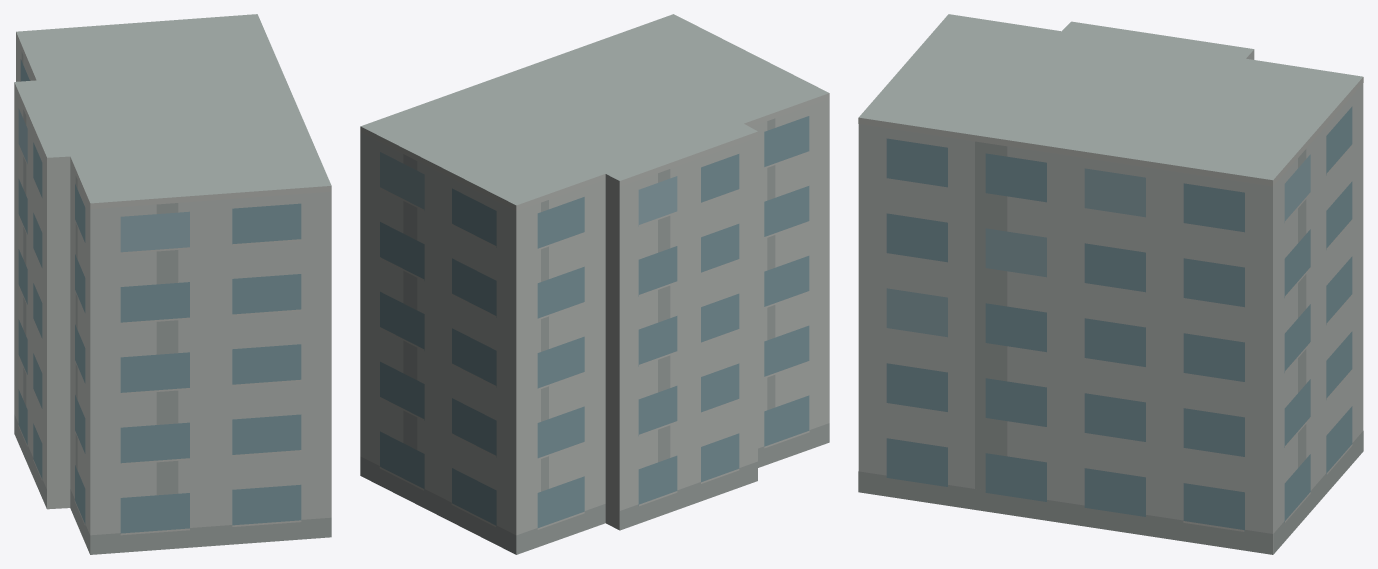
File: survey-upis-32887502.glb
The picture shows the model from 3 angles, left to right: view 1: azimuth 30°, elevation 25°; view 2: azimuth 150°, elevation 25°; view 3: azimuth 270°, elevation 25°; orthographic projection. The views are drawn at different scales.
Parts seen in each view (by area): view 1: survey-upis-32887502.tmp; view 2: survey-upis-32887502.tmp; view 3: survey-upis-32887502.tmp.
Boxes of the visible parts, x1=… form: survey-upis-32887502.tmp: x1=14, y1=14, x2=331, y2=554; survey-upis-32887502.tmp: x1=360, y1=14, x2=829, y2=554; survey-upis-32887502.tmp: x1=858, y1=14, x2=1363, y2=554.
Bounding box in the file's own units: 13.81 × 14.5 × 17.72.
